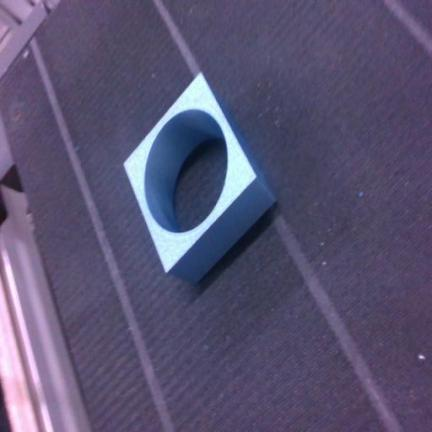square: (125, 75, 274, 281)
